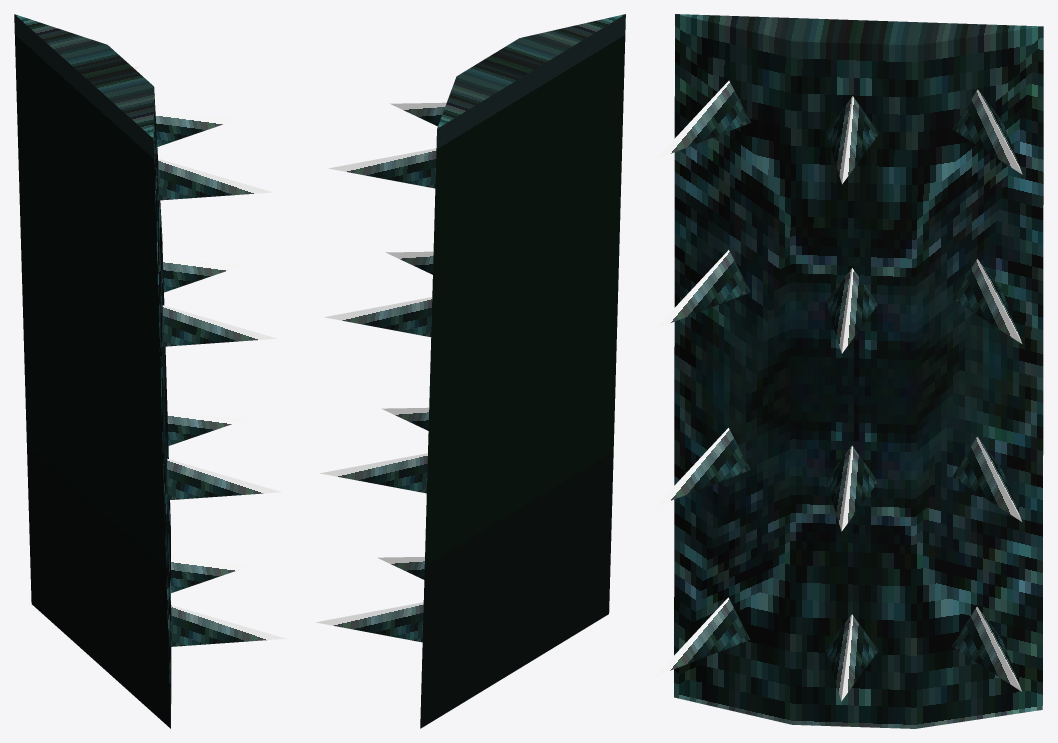
File: jiancizhidun.FBX
The picture shows the model from 3 angles, left to right: view 1: azimuth 30°, elevation 25°; view 2: azimuth 150°, elevation 25°; view 3: azimuth 270°, elevation 25°; orthographic projection. The views are drawn at different scales.
Parts seen in each view (by area): view 1: SMDImport; view 2: SMDImport; view 3: SMDImport.
Part boxes in pixels (left/top/right/bottom): SMDImport: left=14, top=14, right=285, bottom=728; SMDImport: left=315, top=14, right=625, bottom=728; SMDImport: left=655, top=14, right=1043, bottom=728.
Bounding box in the file's own units: 25.54 × 84.81 × 44.29.
1 material, 1 textured.
